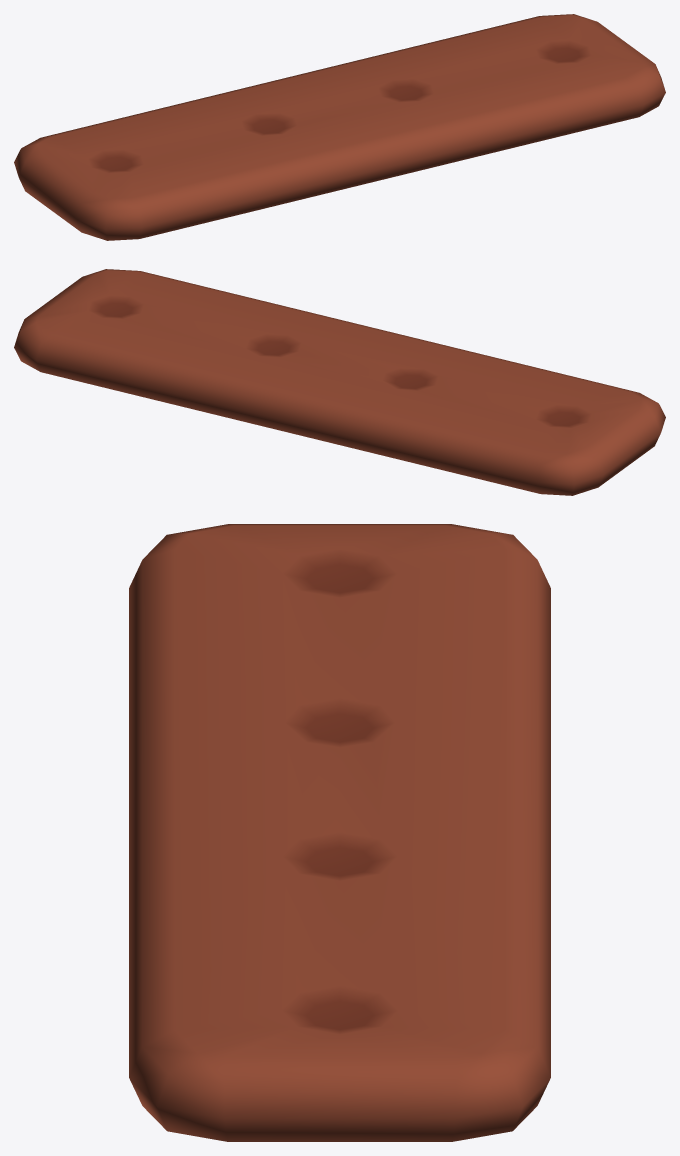
The model's file is Cookie_001.glb.
3 views of the same model, one above another, from view 1: azimuth 30°, elevation 25°; view 2: azimuth 150°, elevation 25°; view 3: azimuth 270°, elevation 25° (orthographic). The views are drawn at different scales.
Visible parts, largest first — view 1: Cookie_001; view 2: Cookie_001; view 3: Cookie_001.
Part boxes in pixels (x1=…): Cookie_001: x1=14, y1=14, x2=665, y2=240; Cookie_001: x1=14, y1=269, x2=665, y2=495; Cookie_001: x1=129, y1=524, x2=550, y2=1141.
Size of the model in its own units: 1.84 by 0.1241 by 0.5755.
1 material, 1 textured.
